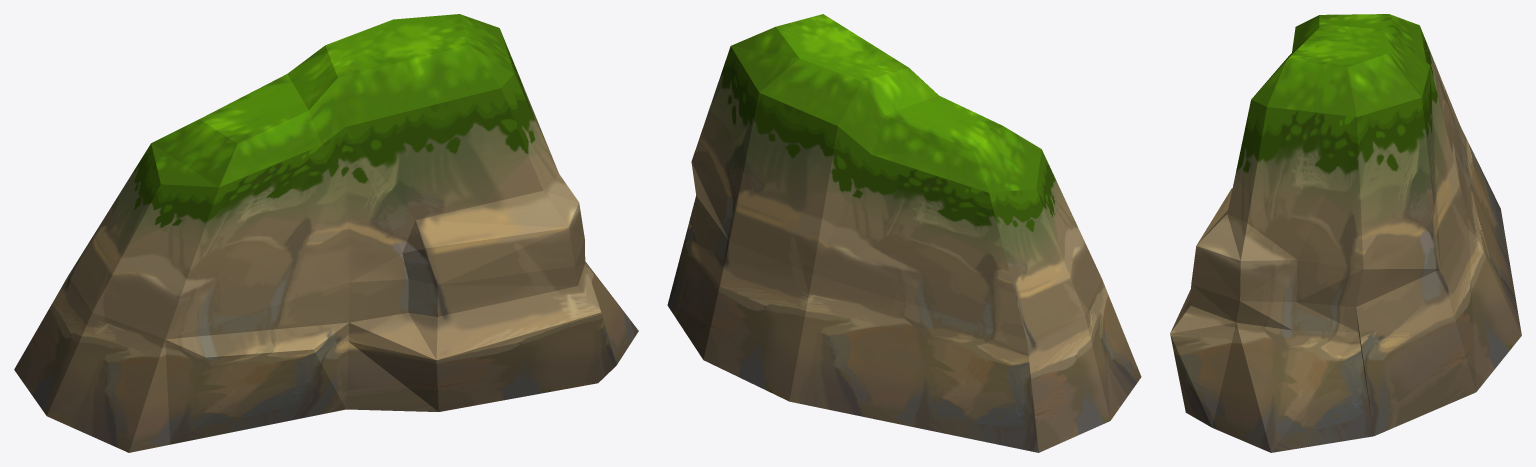
Rendered from shitou02.FBX.
3 views of the same model, side by side, from view 1: azimuth 30°, elevation 25°; view 2: azimuth 150°, elevation 25°; view 3: azimuth 270°, elevation 25° (orthographic). The views are drawn at different scales.
Parts seen in each view (by area): view 1: Object007, Object014; view 2: Object007, Object014; view 3: Object007, Object014.
Part boxes in pixels (<box>): Object007: <box>14,30,638,452</box>; Object014: <box>151,14,514,187</box>; Object007: <box>667,46,1141,452</box>; Object014: <box>731,14,1041,192</box>; Object007: <box>1170,26,1521,452</box>; Object014: <box>1251,14,1429,116</box>.
Bounding box in the file's own units: 159 × 92.52 × 92.75.
